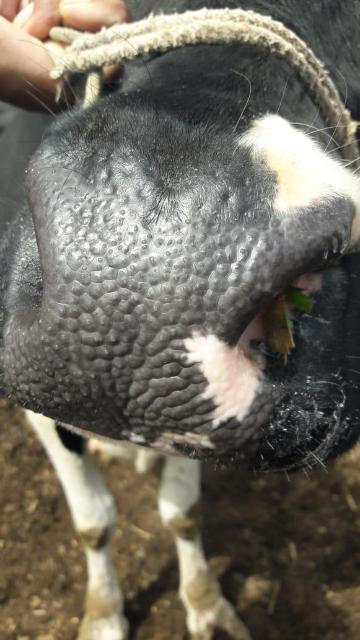Muzzle: (36, 164, 224, 434)
